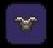helmet: (1, 0, 53, 48)
